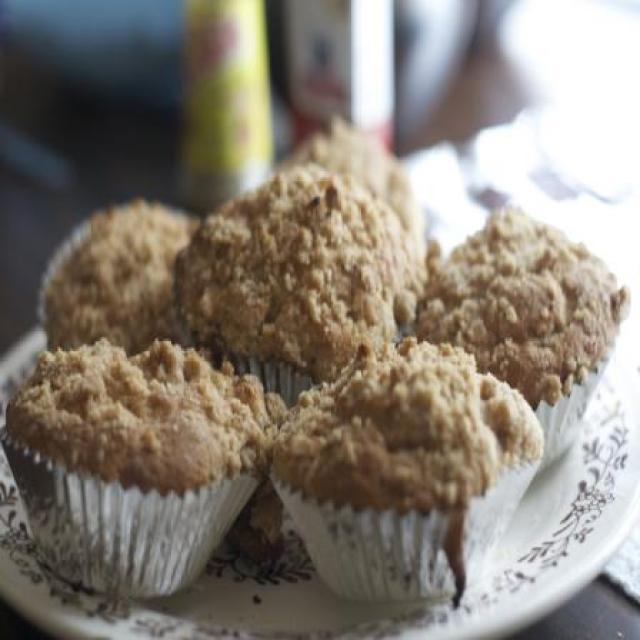Muffin: (46, 115, 634, 608), (1, 336, 280, 604)
